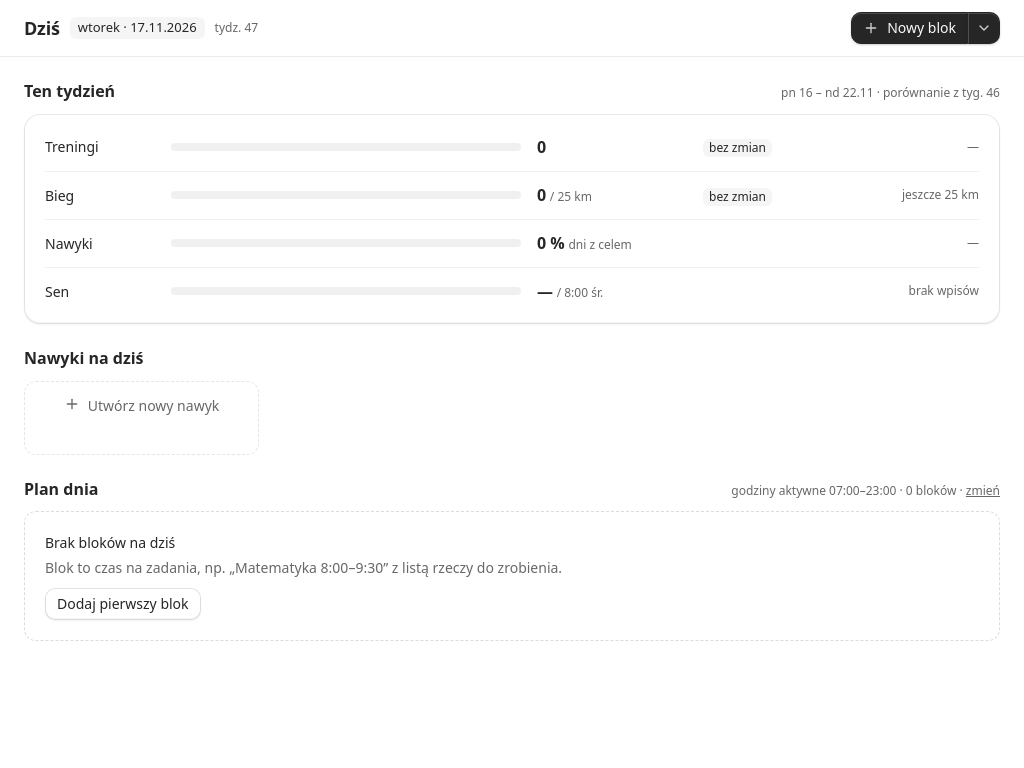
Test: TodayView › „Dodaj pierwszy blok” otwiera to samo okno co „Nowy blok” (najbliższa pełna godzina)
The width and height of the screenshot is (1024, 768).
Step 1. Click the button "Dodaj pierwszy blok" → x=123, y=604, box [45,588,200,620]
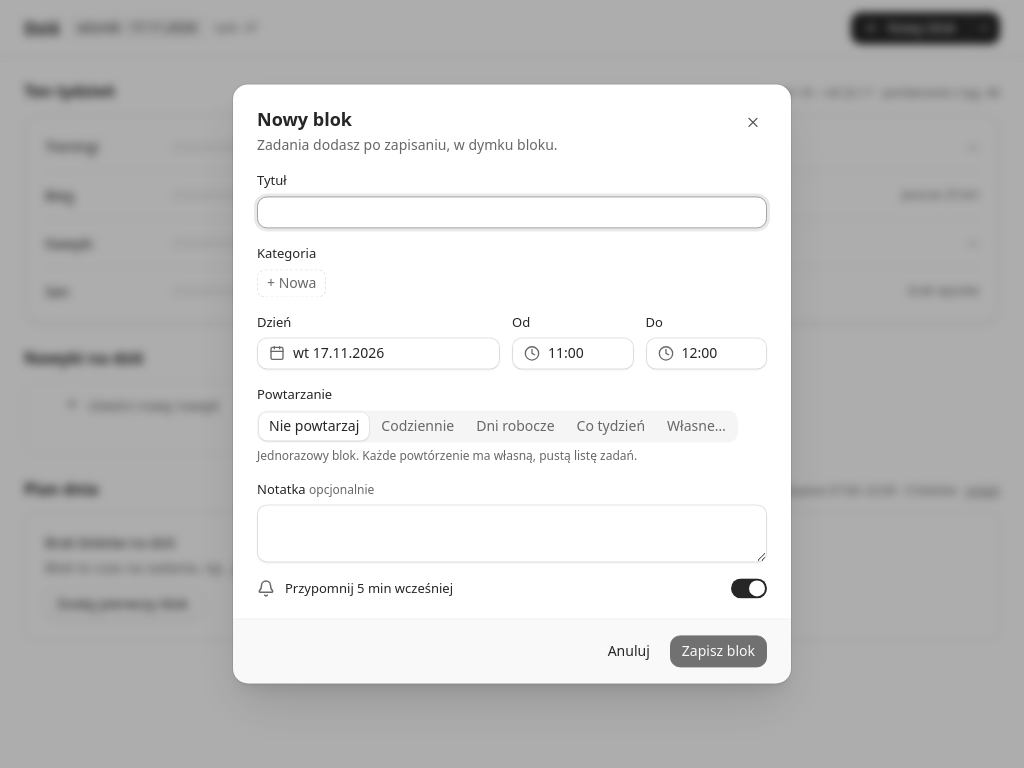
expect the button named "Od" reads "11:00": met, box [512,338,634,370]
